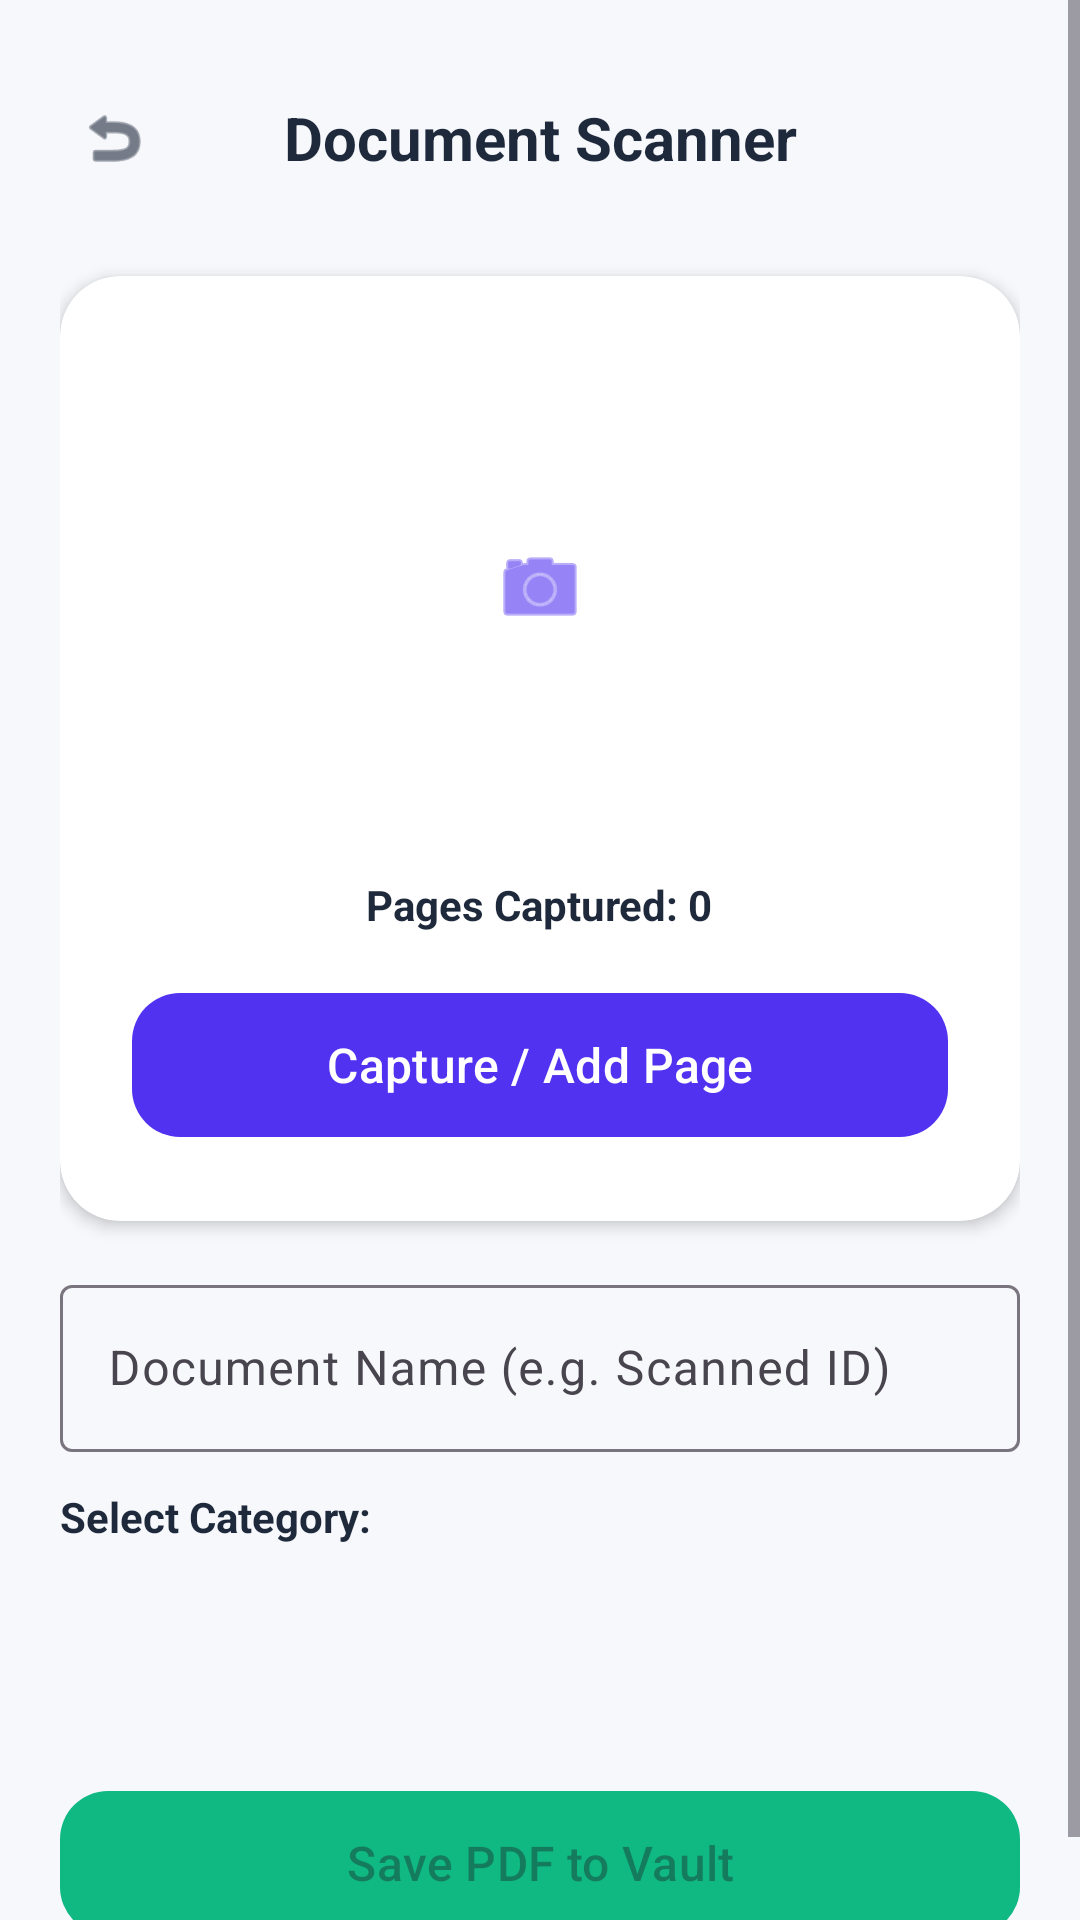

Icons on this 1080x1920 Android screen, each with its box as (x1, y1, x2, y2):
Back: (89, 115, 141, 162)
